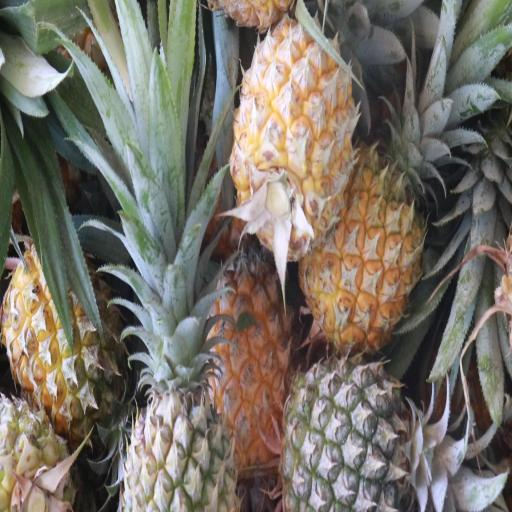------------------------------: (2, 240, 123, 432)
Pineapple - v8 v1: (235, 19, 354, 255), (306, 150, 426, 350), (206, 238, 295, 465)
